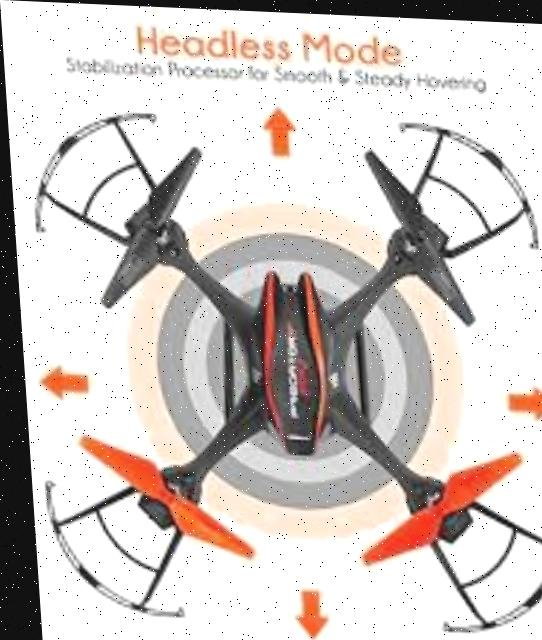drone: (5, 99, 542, 636)
